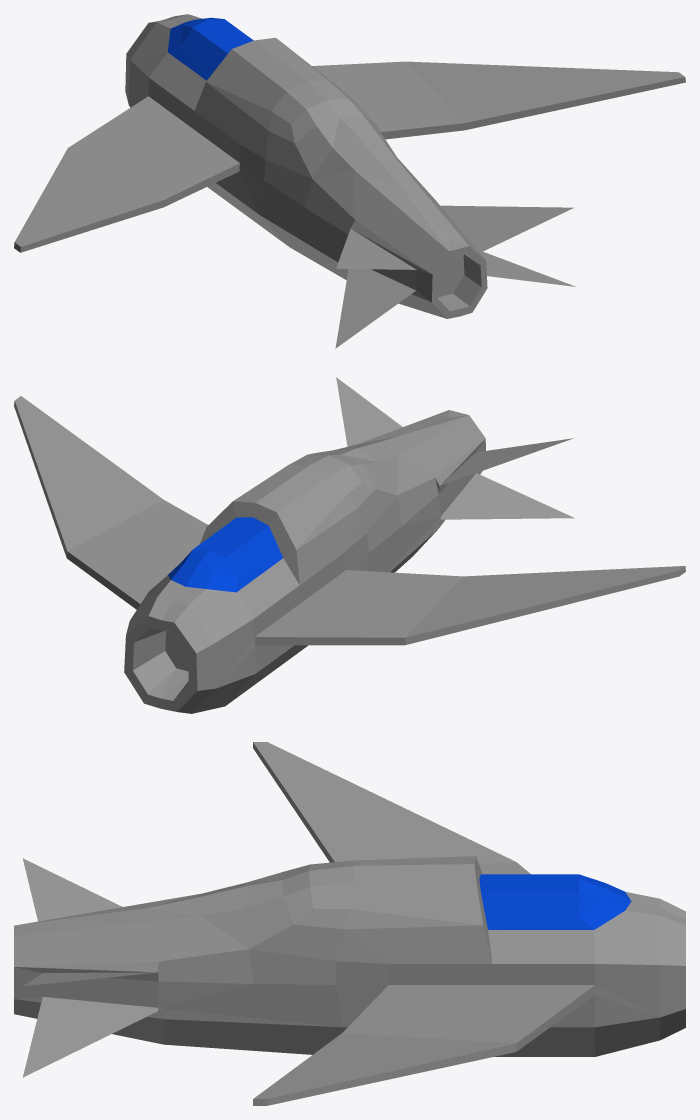
File: airplane.FBX
3 views of the same model, one above another, from view 1: azimuth 30°, elevation 25°; view 2: azimuth 150°, elevation 25°; view 3: azimuth 270°, elevation 25° (orthographic). The views are drawn at different scales.
Parts seen in each view (by area): view 1: Cylinder001; view 2: Cylinder001; view 3: Cylinder001.
Part boxes in pixels (left/top/right/bottom): Cylinder001: left=14, top=14, right=685, bottom=348; Cylinder001: left=14, top=377, right=685, bottom=713; Cylinder001: left=14, top=742, right=685, bottom=1105.
Size of the model in its own units: 264 by 60.46 by 204.
